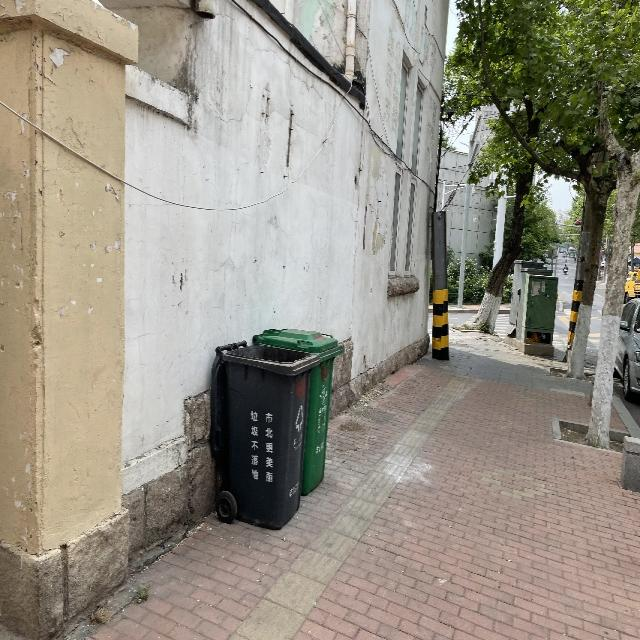garbage_bin: (208, 339, 319, 529), (253, 327, 343, 492)
